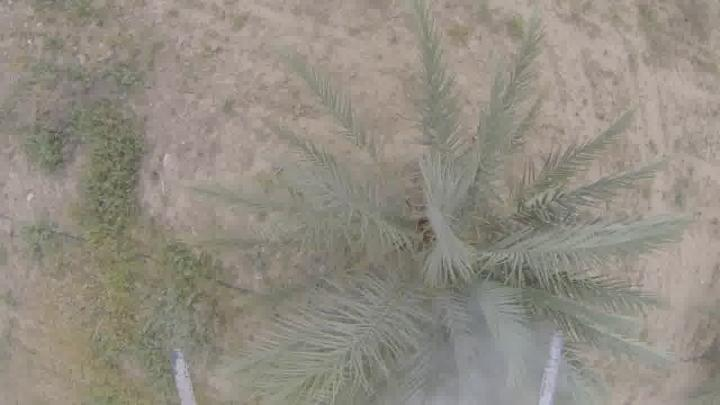Date-Palm-Crown: (354, 150, 578, 390)
